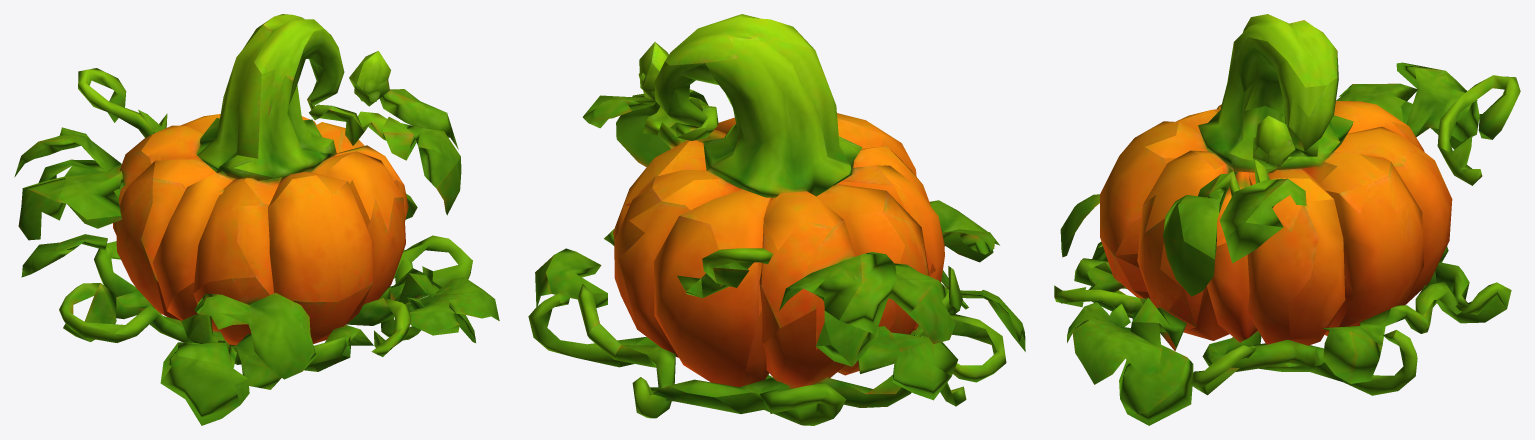
The model's file is pumpkin.glb.
The picture shows the model from 3 angles, left to right: view 1: azimuth 30°, elevation 25°; view 2: azimuth 150°, elevation 25°; view 3: azimuth 270°, elevation 25°; orthographic projection. The views are drawn at different scales.
Bounding box in the file's own units: 1 × 0.8008 × 0.998.
1 material, 1 textured.
